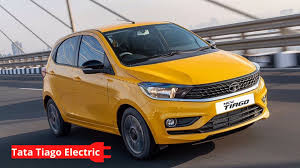Tiago: (40, 16, 275, 161)
